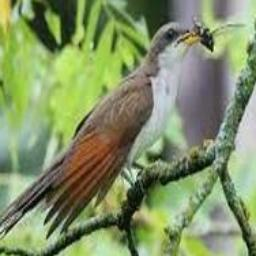Cuckoo: (0, 22, 202, 246)
